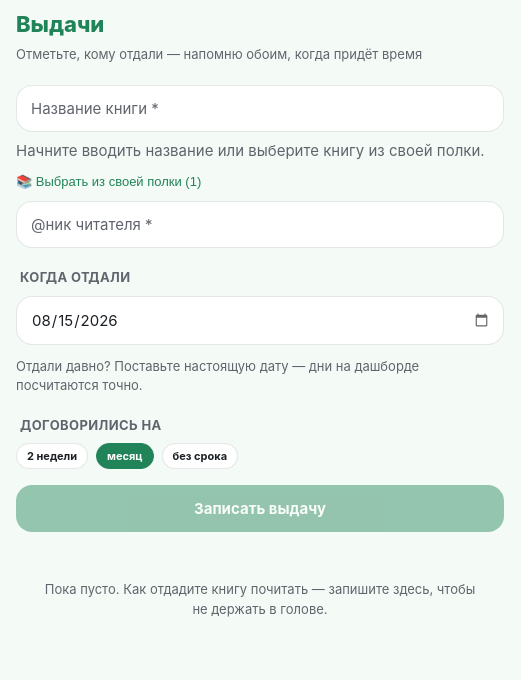
Test case: подсказка с полки в форме выдачи › выбор из списка подставляет название и закрывает подсказку
Type "мастер" into the field with placeholder "Название книги *" at (260,108), box [16,84,504,132]
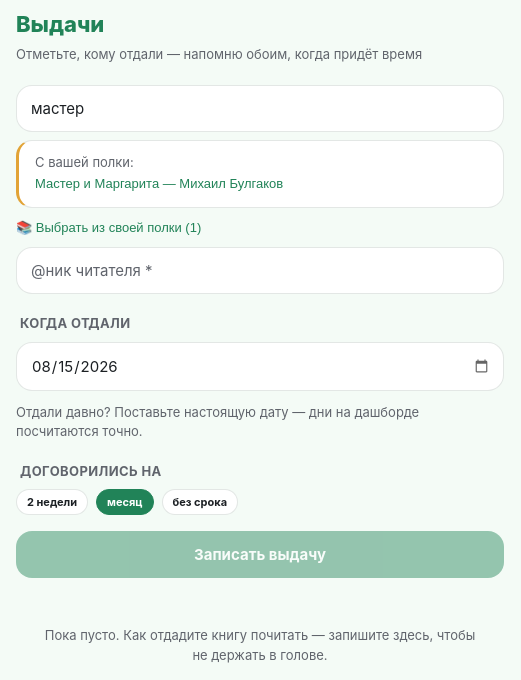
Click the button "Мастер и Маргарита — Михаил Булгаков" at (261,184), box [35,172,487,195]
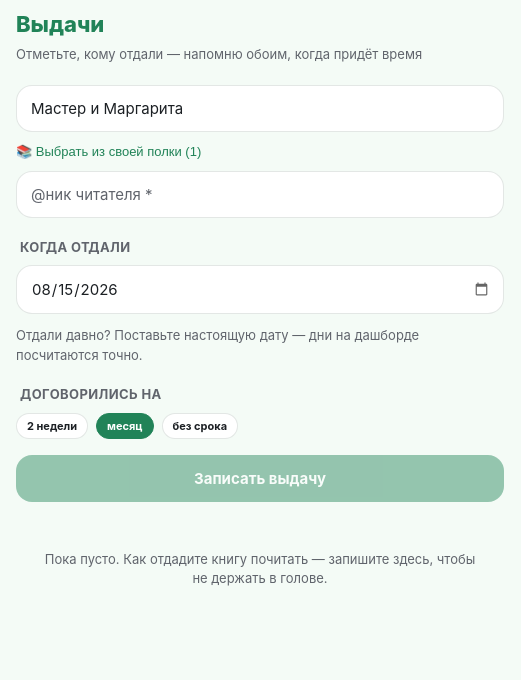
Check: the field with placeholder "Название книги *" holds "Мастер и Маргарита", box [16,84,504,132]
Check: the text "С вашей полки" is gone
